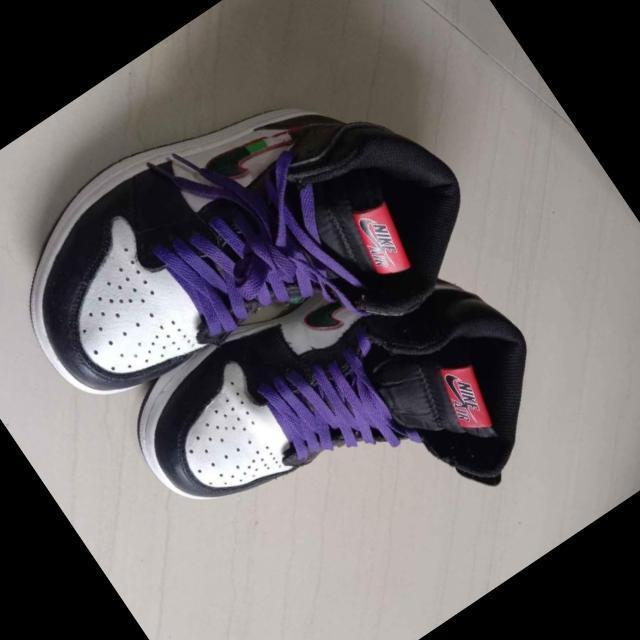nike fake jordan 1: (0, 2, 509, 499), (102, 174, 598, 640)
